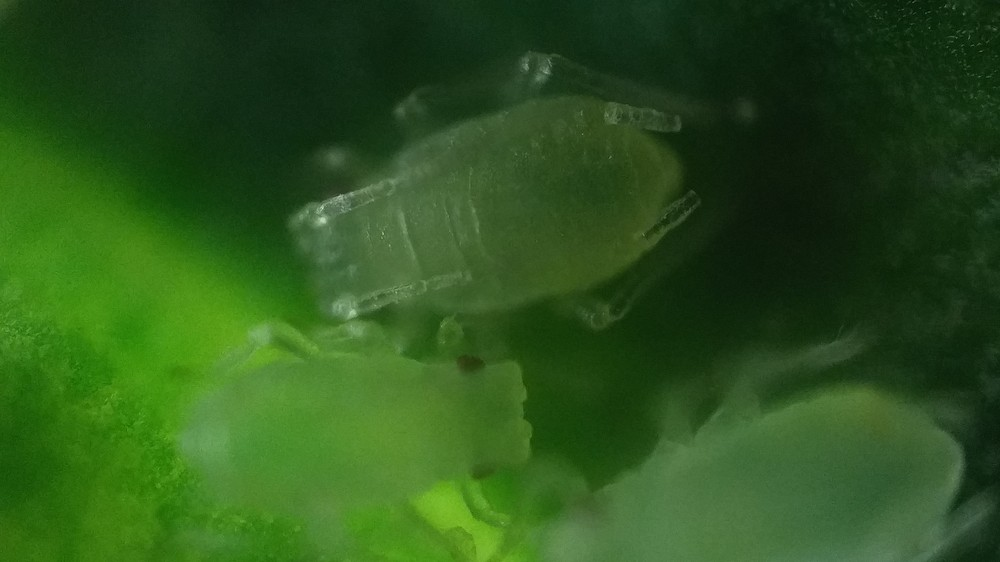Pulgon: (247, 40, 756, 349), (166, 307, 565, 547)
